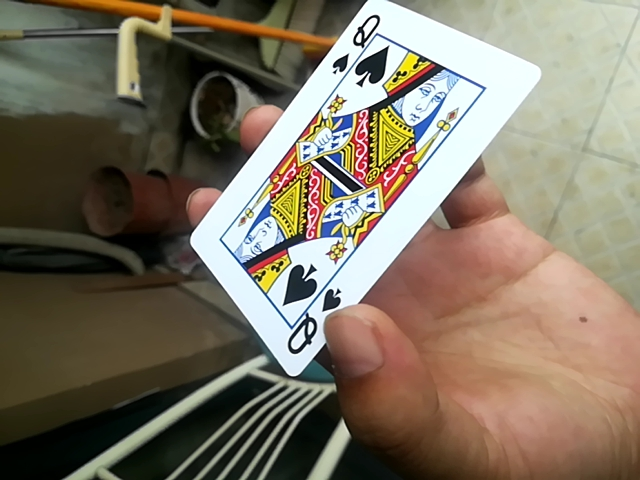ht q: (178, 5, 547, 385)
